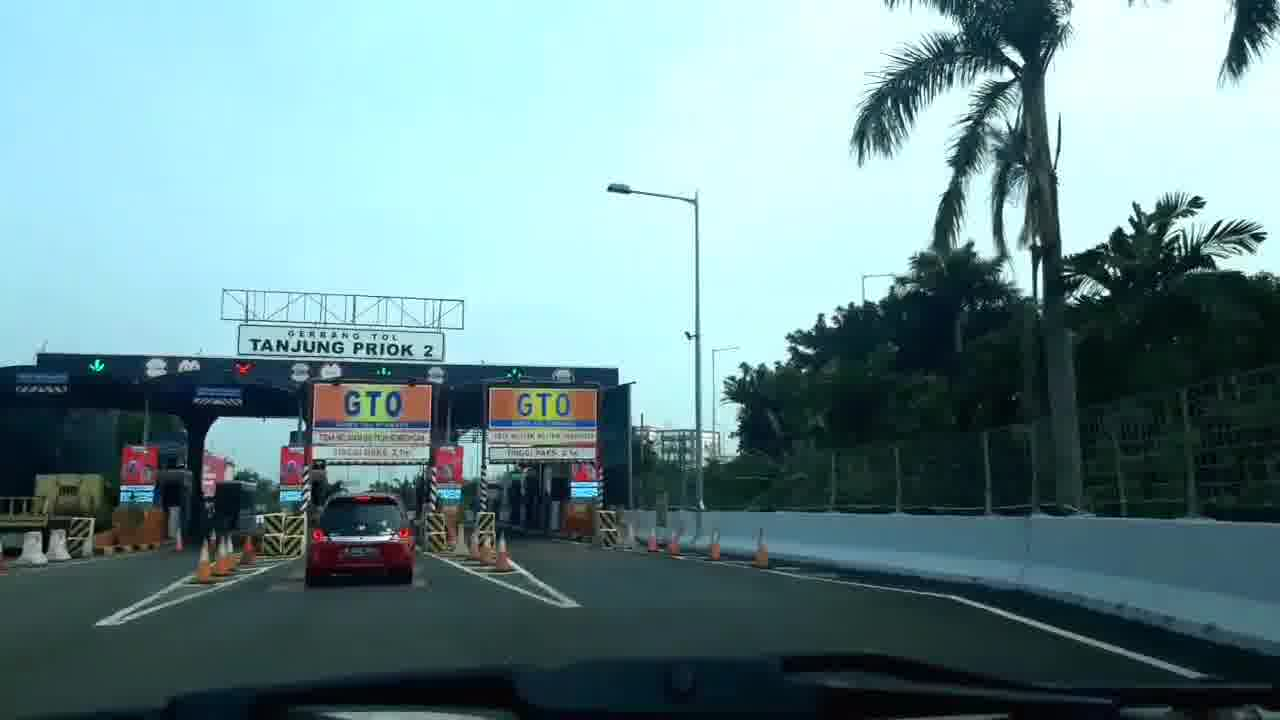plate_positive: (343, 546, 378, 558)
